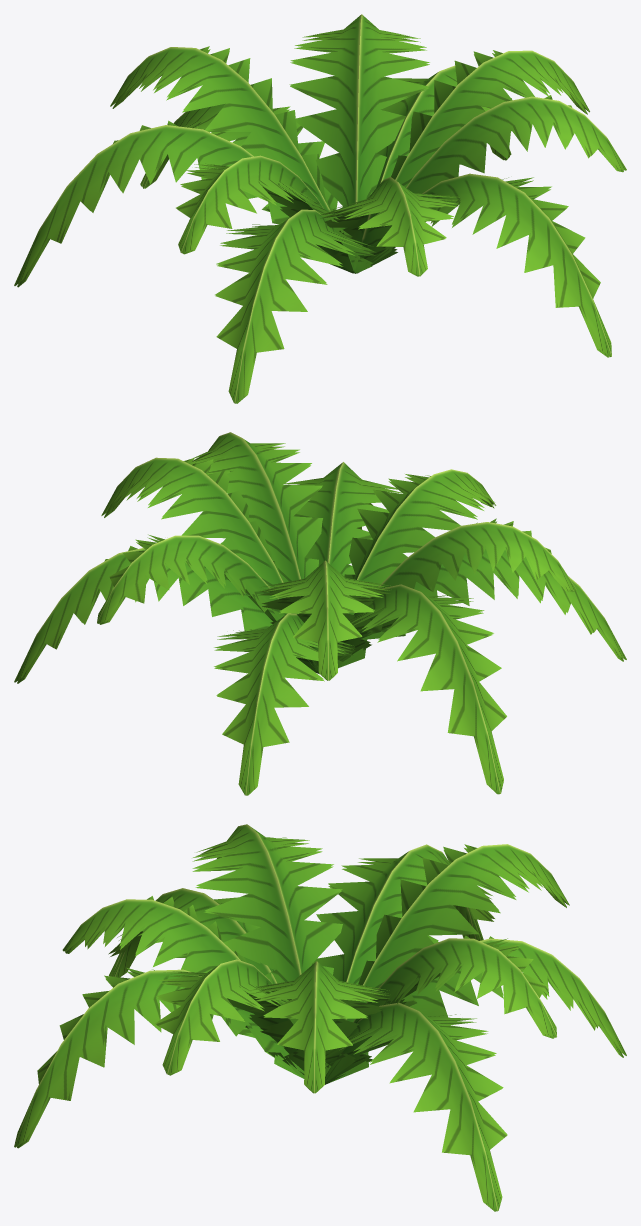
File: Kit_Fern.fbx
The picture shows the model from 3 angles, top to bottom: view 1: azimuth 30°, elevation 25°; view 2: azimuth 150°, elevation 25°; view 3: azimuth 270°, elevation 25°; orthographic projection. The views are drawn at different scales.
Parts seen in each view (by area): view 1: Kit_Fern; view 2: Kit_Fern; view 3: Kit_Fern.
Part boxes in pixels (x1=…): Kit_Fern: x1=14, y1=14, x2=626, y2=403; Kit_Fern: x1=14, y1=432, x2=626, y2=795; Kit_Fern: x1=14, y1=824, x2=626, y2=1211.
Bounding box in the file's own units: 8.57 × 3.19 × 8.67.
1 material, 1 textured.
